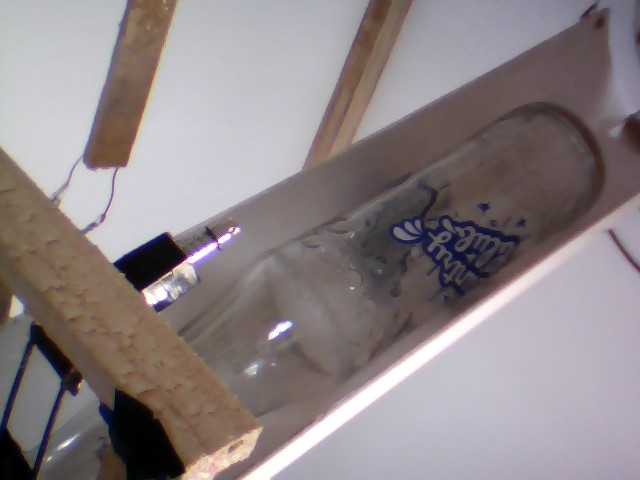vidrio: (166, 94, 607, 420)
